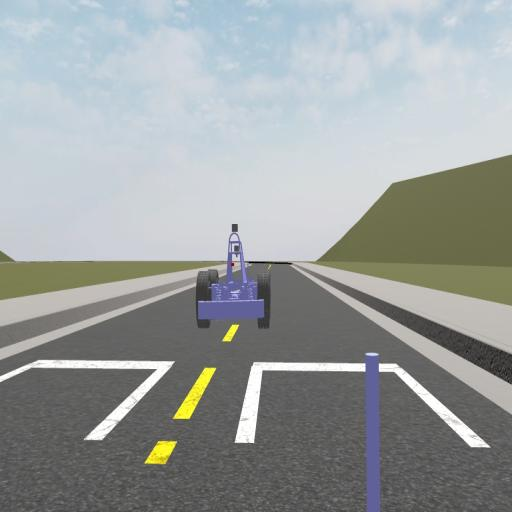ERP-42: (196, 222, 272, 328)
